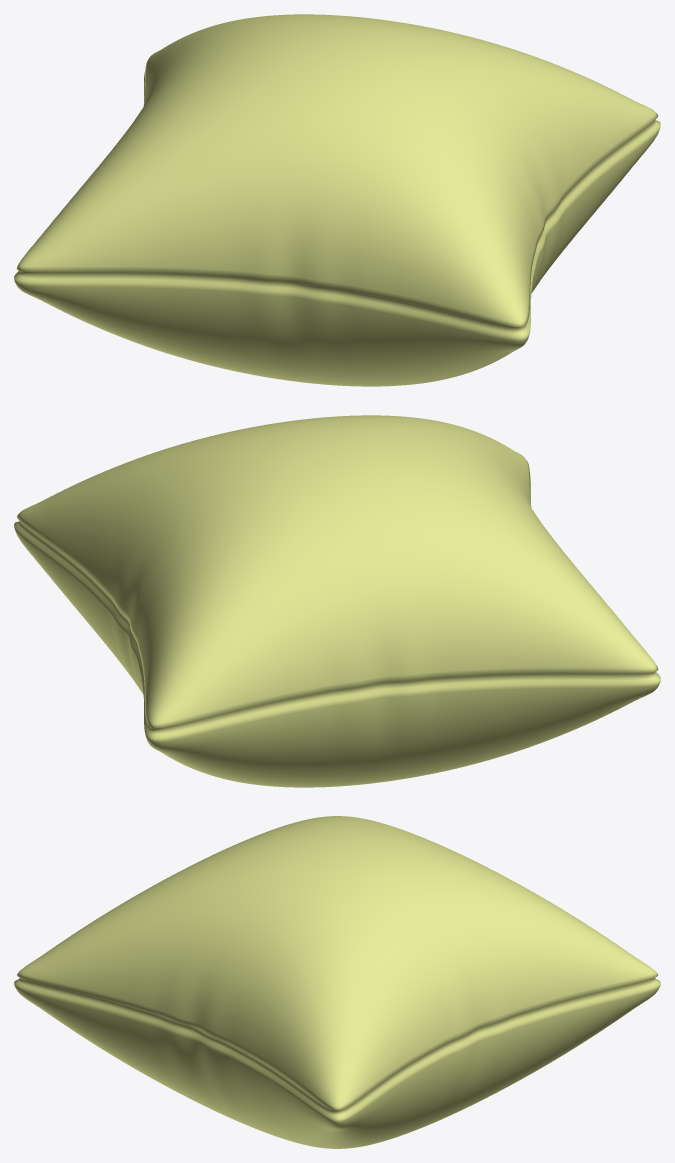
Rendered from Pillow.fbx.
3 views of the same model, one above another, from view 1: azimuth 30°, elevation 25°; view 2: azimuth 150°, elevation 25°; view 3: azimuth 270°, elevation 25° (orthographic). The views are drawn at different scales.
Parts seen in each view (by area): view 1: Plane; view 2: Plane; view 3: Plane.
Part boxes in pixels (<box>): Plane: <box>14,14,660,386</box>; Plane: <box>14,415,660,787</box>; Plane: <box>14,816,660,1148</box>.
Size of the model in its own units: 638 by 290 by 638.
